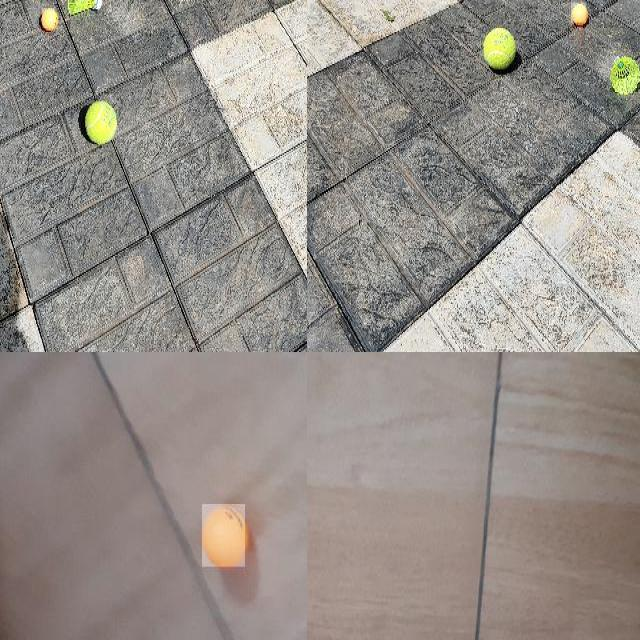ping-pong-ball: (202, 504, 246, 568), (571, 3, 587, 24), (42, 8, 56, 29)
